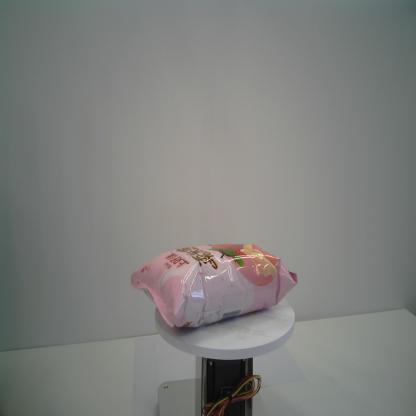Puffed Food: (129, 243, 299, 330)
